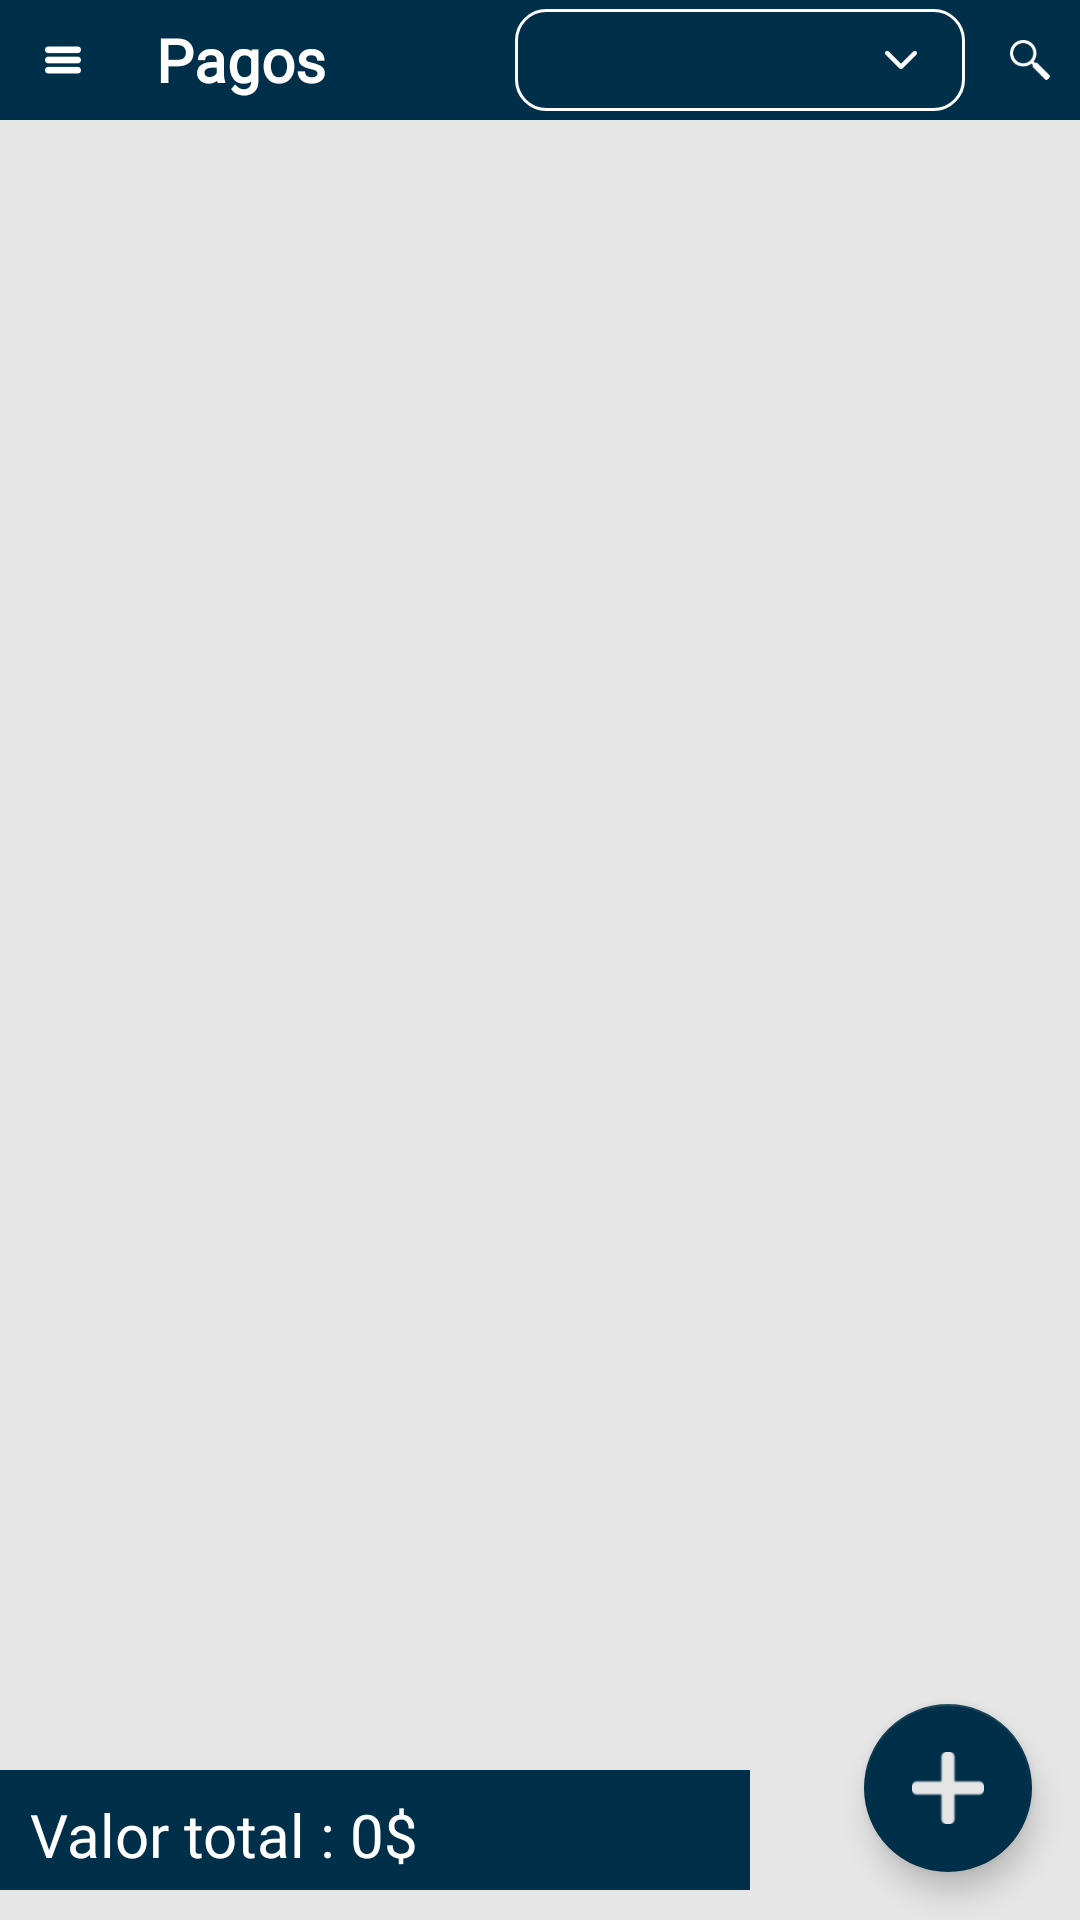

Where icons sit on this 1080px×1920px app screen, as (x1, y1, x2, y2):
add: (864, 1704, 1032, 1872)
down: (885, 51, 917, 69)
menu: (45, 46, 81, 74)
search: (1010, 40, 1050, 80)
